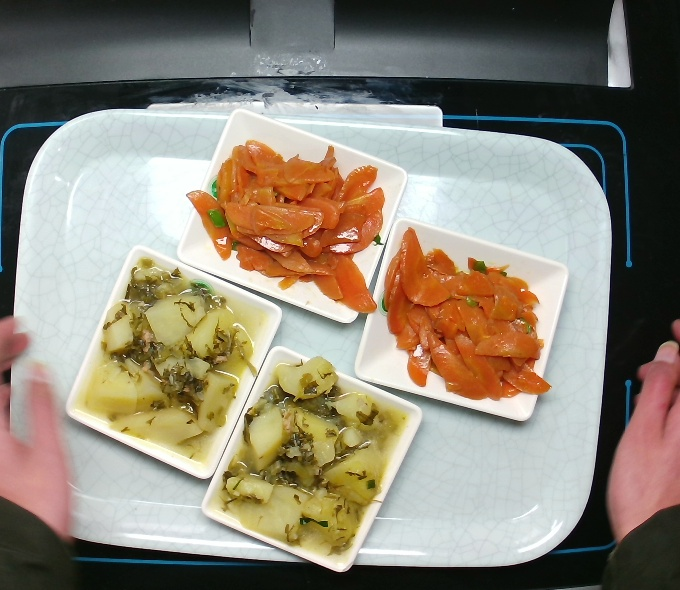wcq-HuLuoBo: (367, 236, 557, 405), (189, 147, 392, 304)
wcq-XueCaiTuDou: (224, 369, 397, 549), (90, 266, 252, 451)
